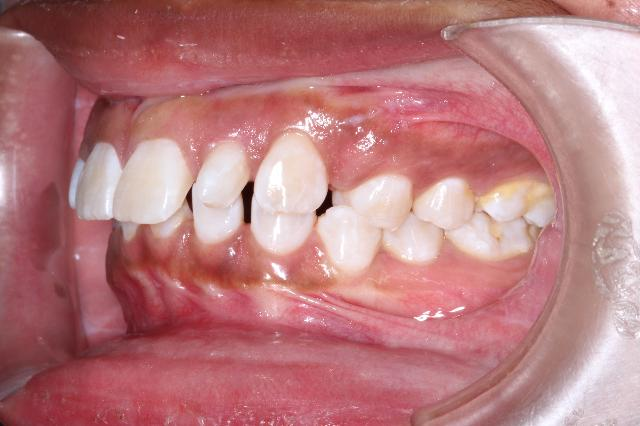canine class II 1/2: (250, 124, 384, 280)
molar class I: (444, 164, 558, 264)
